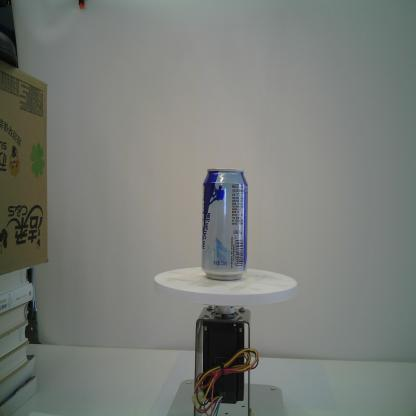Alcohol: (200, 168, 249, 282)
